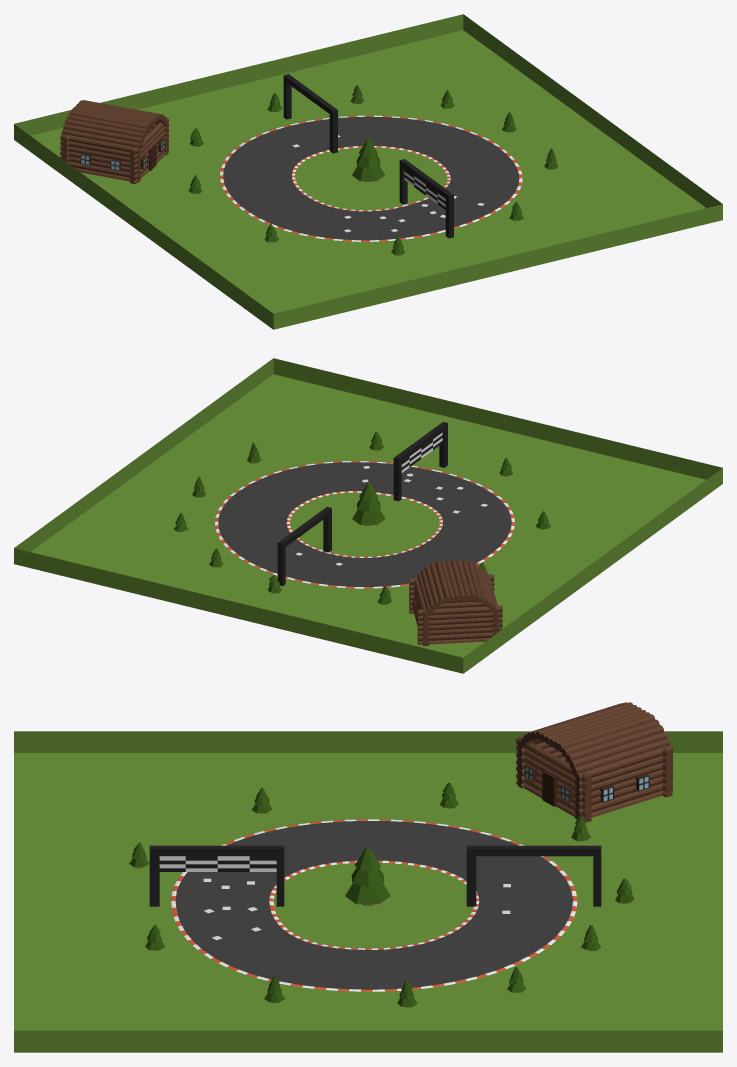
Rendered from small-track.glb.
3 views of the same model, one above another, from view 1: azimuth 30°, elevation 25°; view 2: azimuth 150°, elevation 25°; view 3: azimuth 270°, elevation 25° (orthographic). The views are drawn at different scales.
Parts seen in each view (by area): view 1: ground, road, cabin, goal, checkpoint, tree; view 2: ground, road, cabin, goal, checkpoint, tree; view 3: ground, road, cabin, goal, checkpoint, tree.
Part boxes in pixels (<box>): ground: <box>14,14,722,329</box>; road: <box>220,115,522,241</box>; cabin: <box>60,100,169,183</box>; goal: <box>399,159,453,238</box>; checkpoint: <box>283,74,337,153</box>; tree: <box>352,139,384,181</box>; ground: <box>14,358,722,673</box>; road: <box>215,461,514,588</box>; cabin: <box>409,560,502,646</box>; goal: <box>393,422,447,501</box>; checkpoint: <box>277,506,331,586</box>; tree: <box>352,483,385,525</box>; ground: <box>14,731,722,1052</box>; road: <box>171,819,577,991</box>; cabin: <box>516,702,673,822</box>; goal: <box>149,845,284,906</box>; checkpoint: <box>466,845,601,906</box>; tree: <box>345,846,390,905</box>.
Bounding box in the file's own units: 180 × 19.57 × 180.
2 materials, 2 textured.
